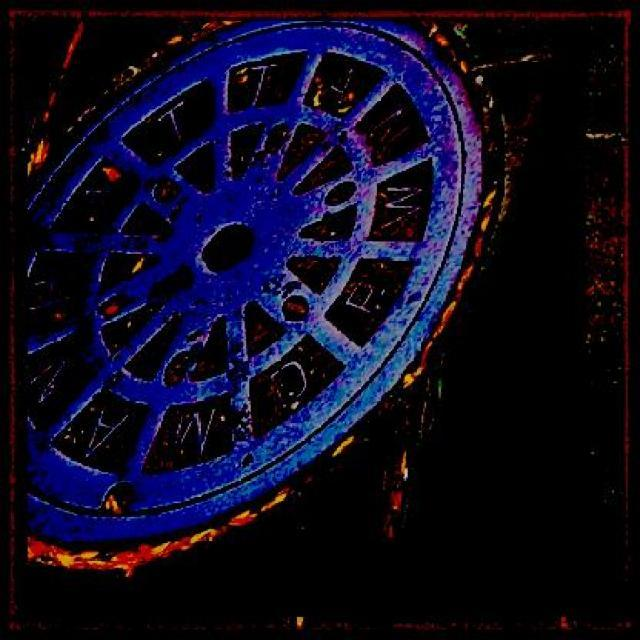Manhole: (28, 20, 586, 617)
